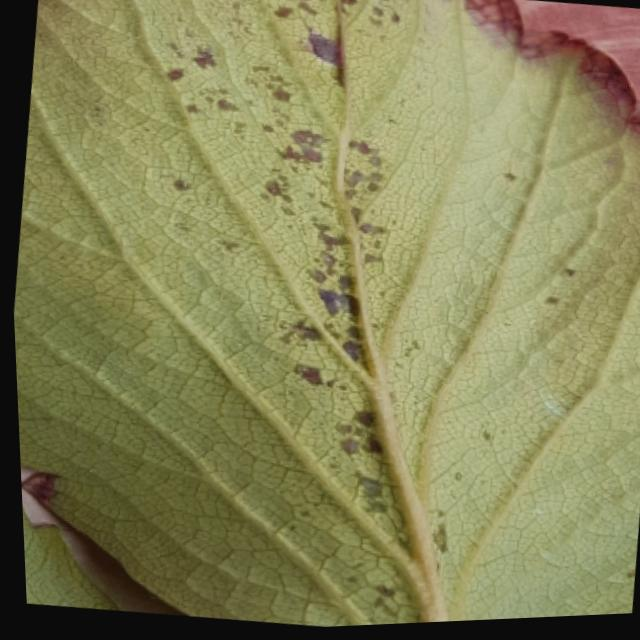Angular Leafspot: (141, 0, 588, 629)
